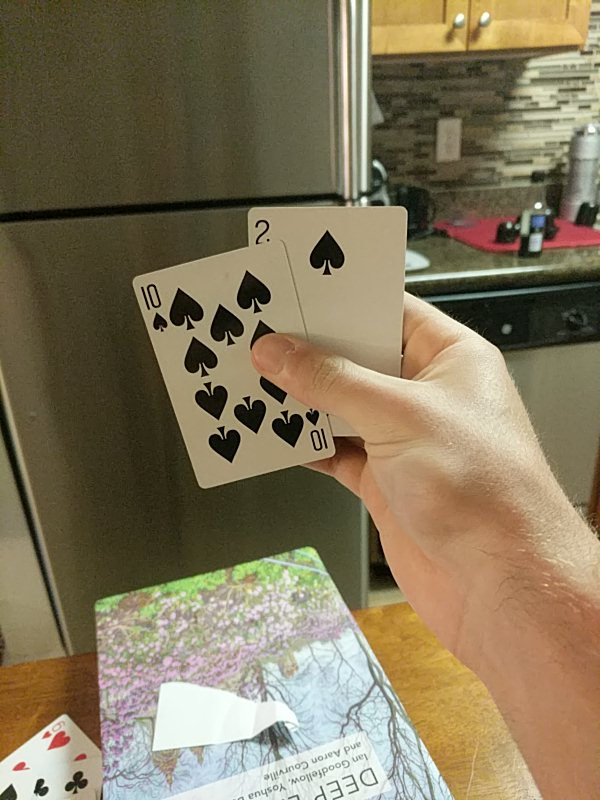Spades: (128, 242, 338, 489), (244, 206, 404, 439)
